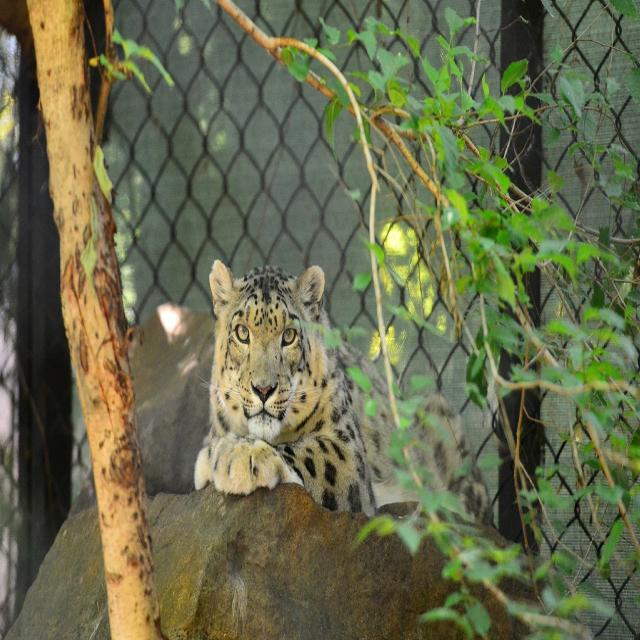Cheetah: (122, 230, 384, 530)
